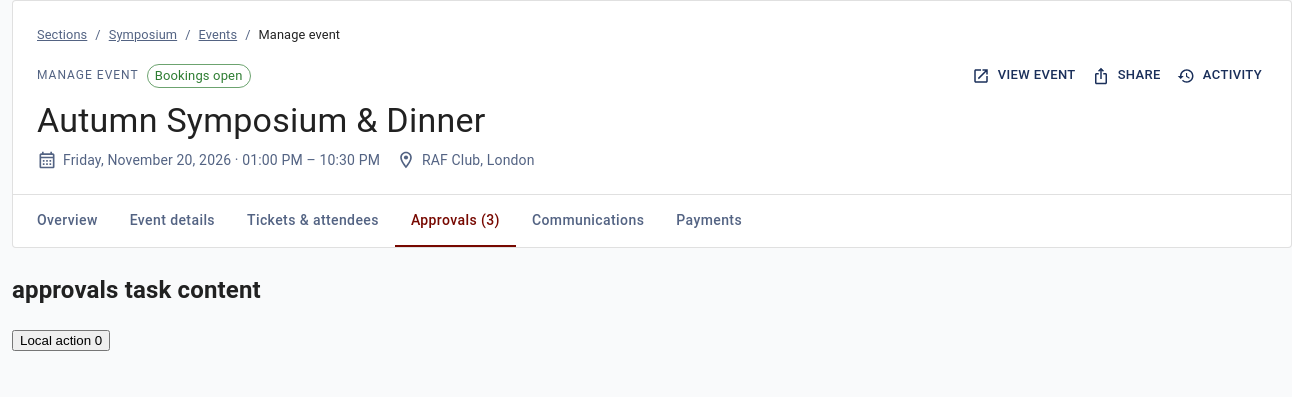
Test: Manage Event workspace › copies the complete current URL and announces success
Click the button "Share" at (1127, 76), box [1089, 60, 1166, 91]
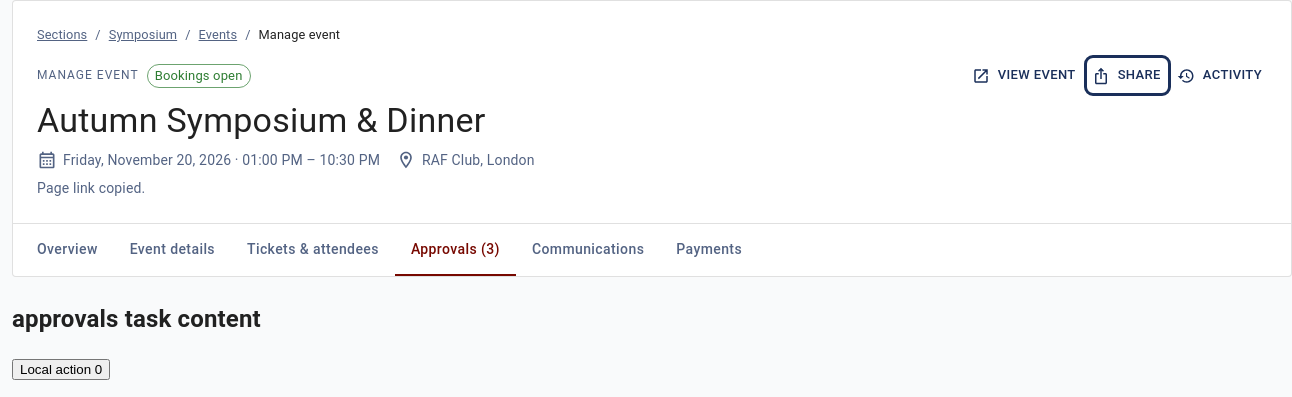
Result: the message reads "Page link copied." at [37, 180, 145, 196]
